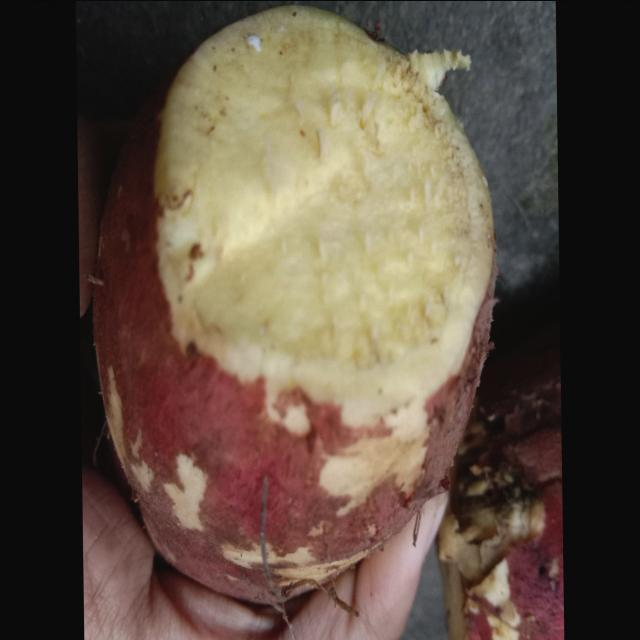Healthy Sweet Potato: (155, 7, 495, 435)
